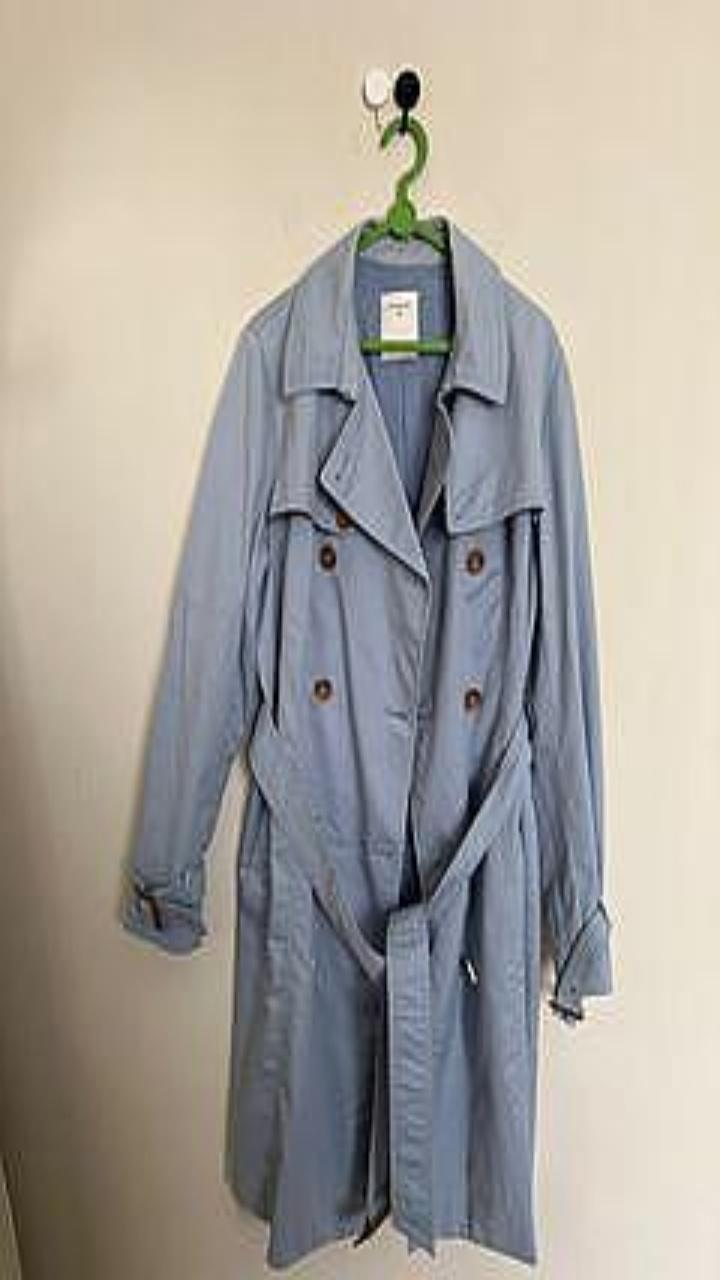Coat: (123, 219, 611, 1267)
